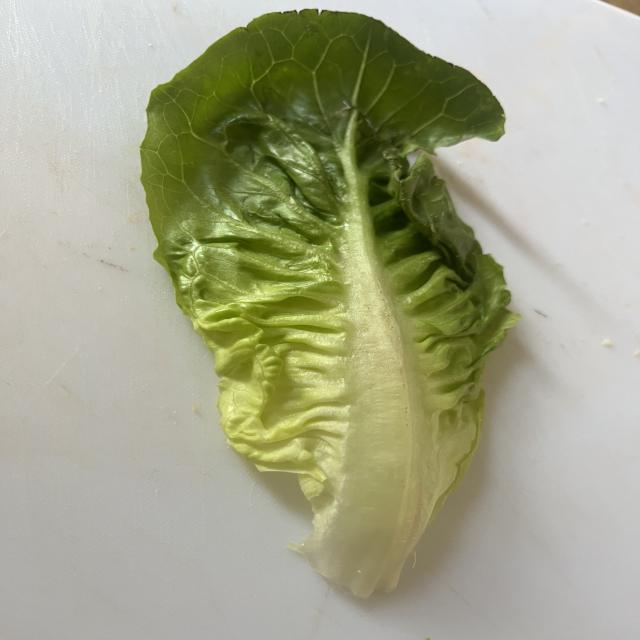lettuce: (141, 10, 518, 597)
